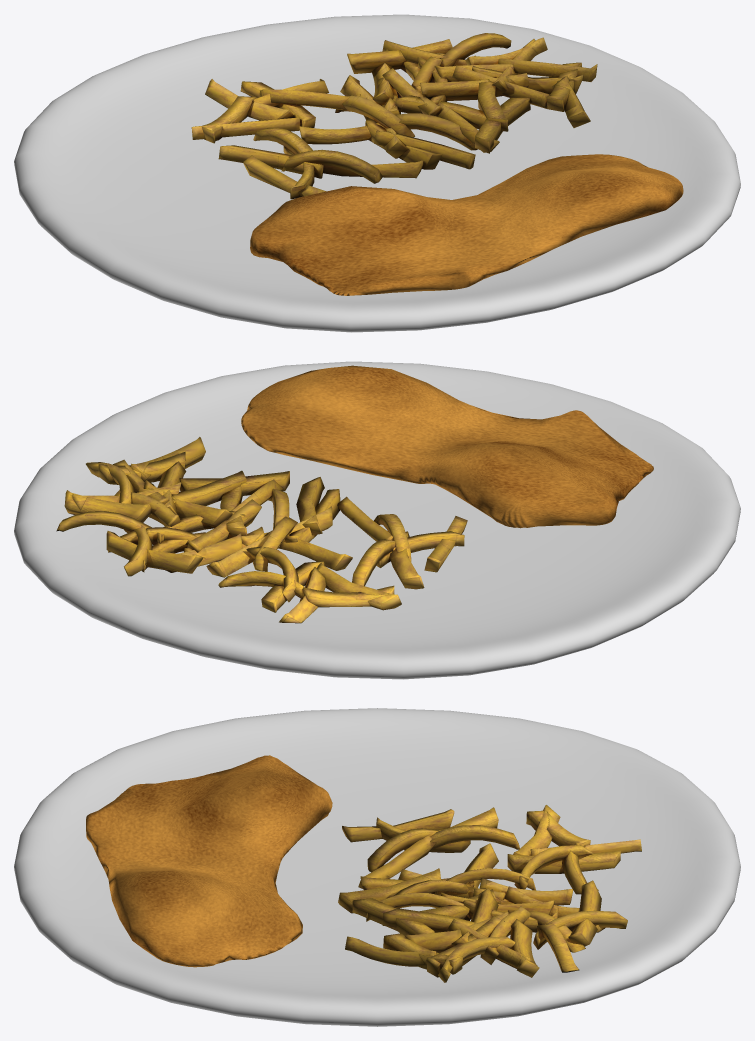
The model's file is meal6.gltf.
3 views of the same model, one above another, from view 1: azimuth 30°, elevation 25°; view 2: azimuth 150°, elevation 25°; view 3: azimuth 270°, elevation 25° (orthographic). The views are drawn at different scales.
Parts seen in each view (by area): view 1: Cube, Cube.002, Plane; view 2: Cube, Cube.002, Plane; view 3: Cube, Cube.002, Plane.
Boxes of the visible parts, x1,y1,x2,y2 form: Cube: (14,14,740,332); Cube.002: (250,154,683,295); Plane: (191,33,597,199); Cube: (14,361,740,679); Cube.002: (241,365,653,528); Plane: (56,437,467,623); Cube: (14,708,740,1026); Cube.002: (86,755,332,967); Plane: (338,805,641,982).
Size of the model in its own units: 23.34 by 2.72 by 23.34.
Materials: 3 (2 with a texture image).
